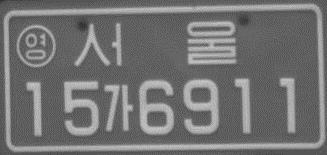1: (230, 76, 256, 136), (275, 76, 301, 135), (22, 79, 46, 140)
5: (62, 78, 99, 136)
6: (136, 78, 176, 137)
9: (180, 78, 222, 136)
가: (100, 81, 136, 132)
서울_D: (72, 18, 240, 70)
영: (16, 24, 57, 70)
